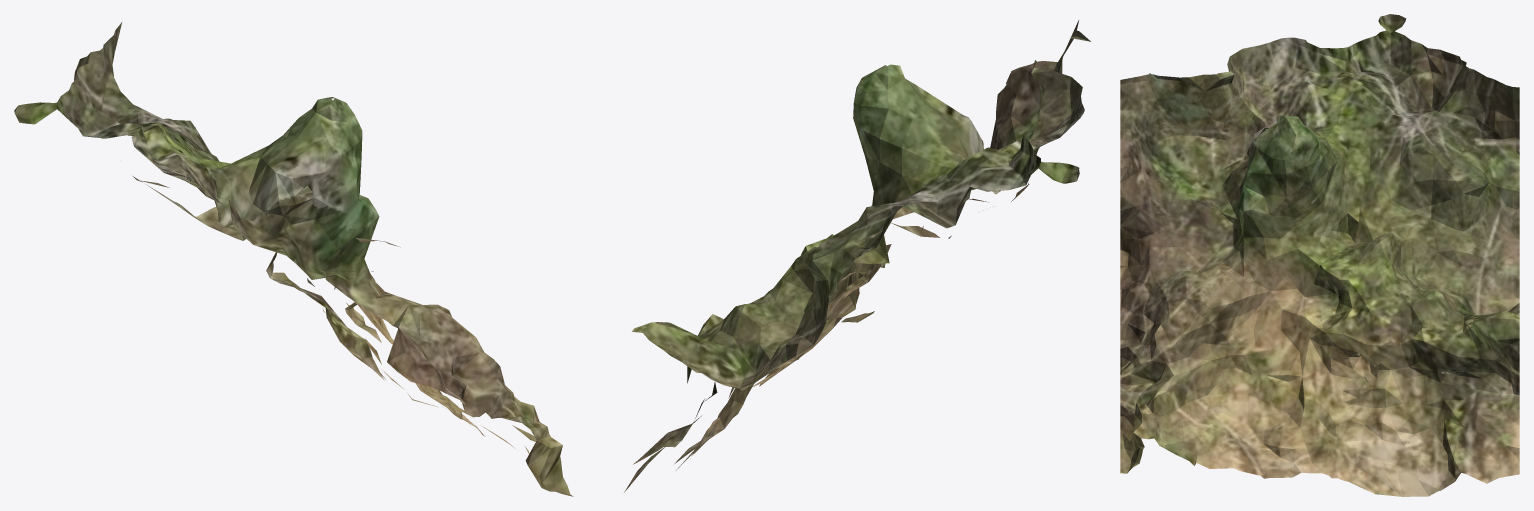
3 renders of one model, left to right at view 1: azimuth 30°, elevation 25°; view 2: azimuth 150°, elevation 25°; view 3: azimuth 270°, elevation 25°, orthographic. The views are drawn at different scales.
Size of the model in its own units: 2.8 by 2.63 by 2.95.
Materials: 4 (4 with a texture image).
